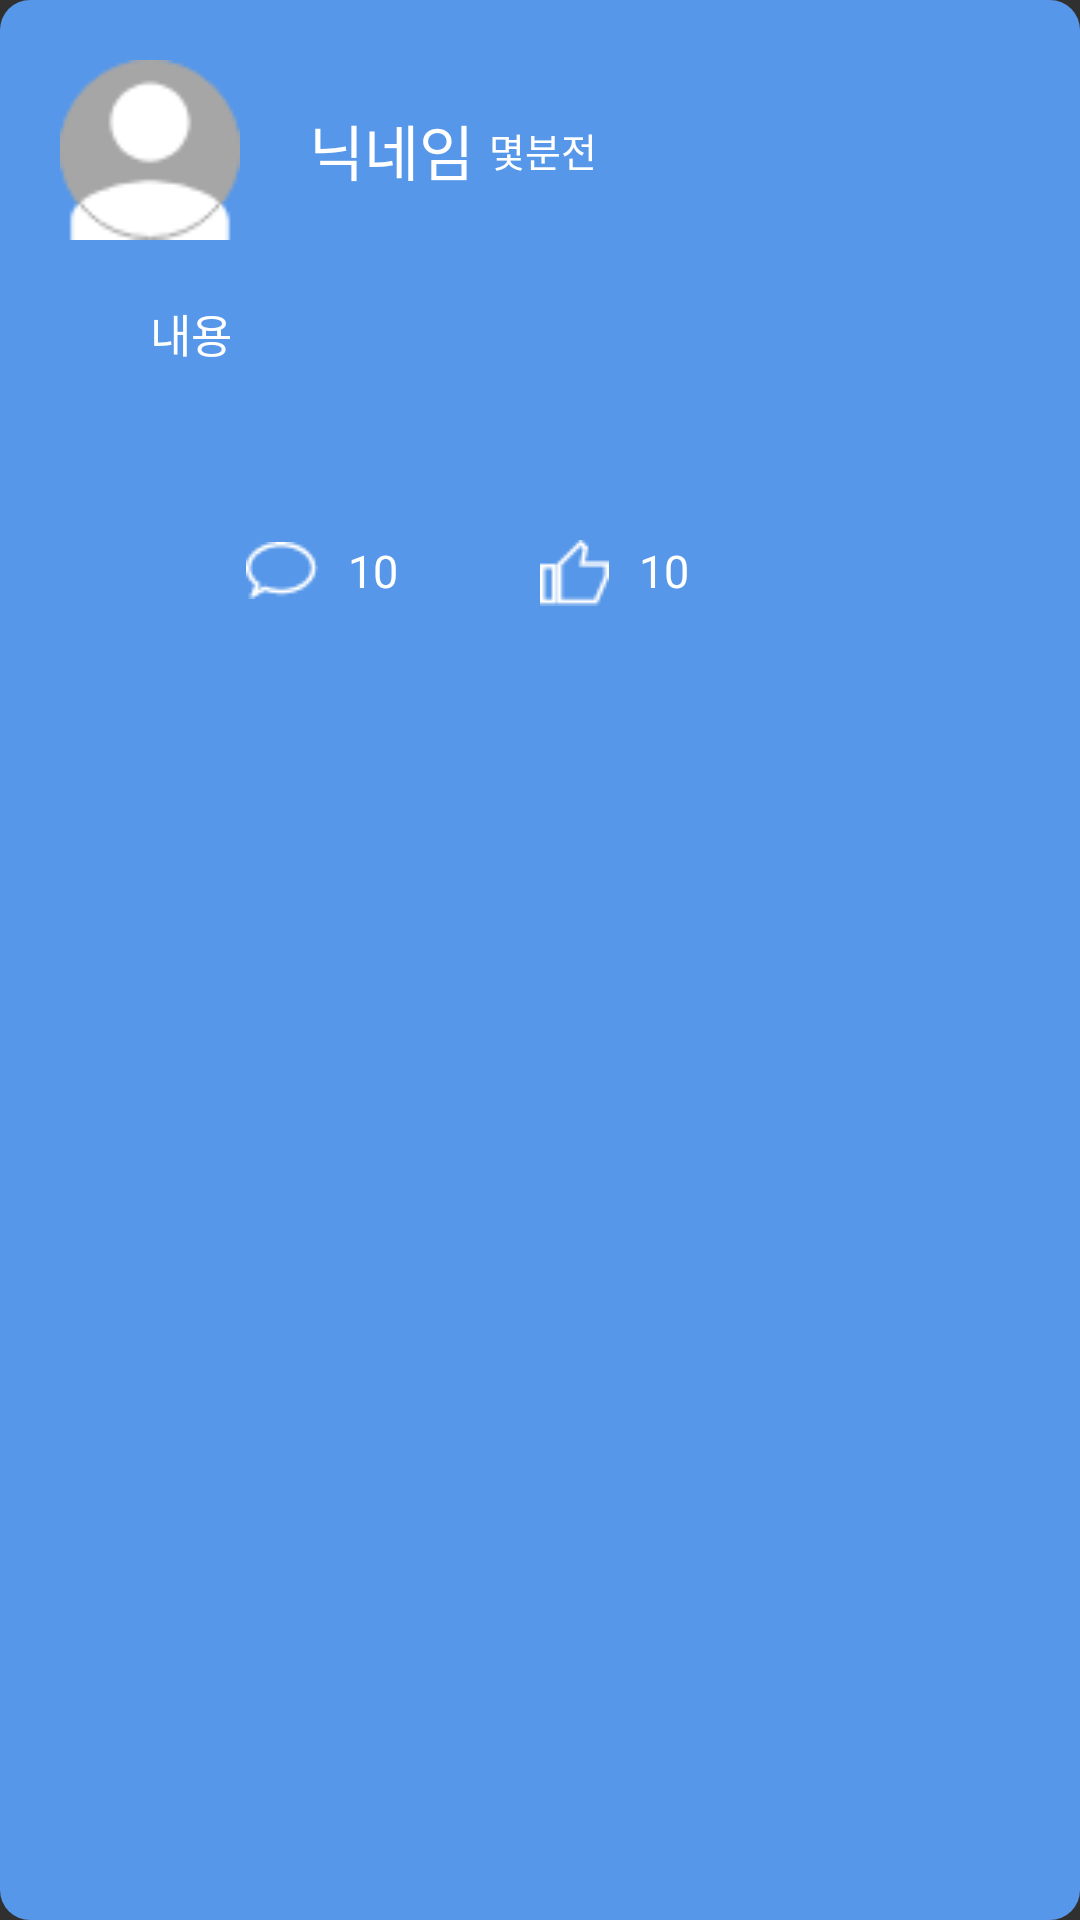

Point at icon controls on the screen. Image size 1080x1920, points as point (x, y).
comment: point (282, 570)
like: point (574, 573)
profile: point (150, 150)
